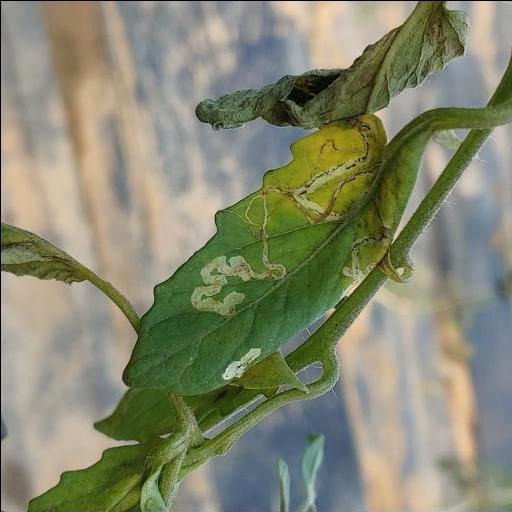disease_tomato: (122, 112, 429, 396)
